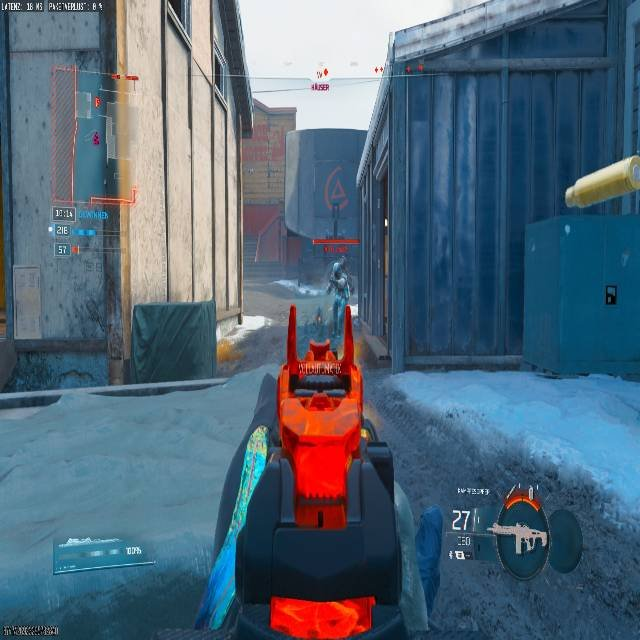player: (328, 256, 352, 309)
